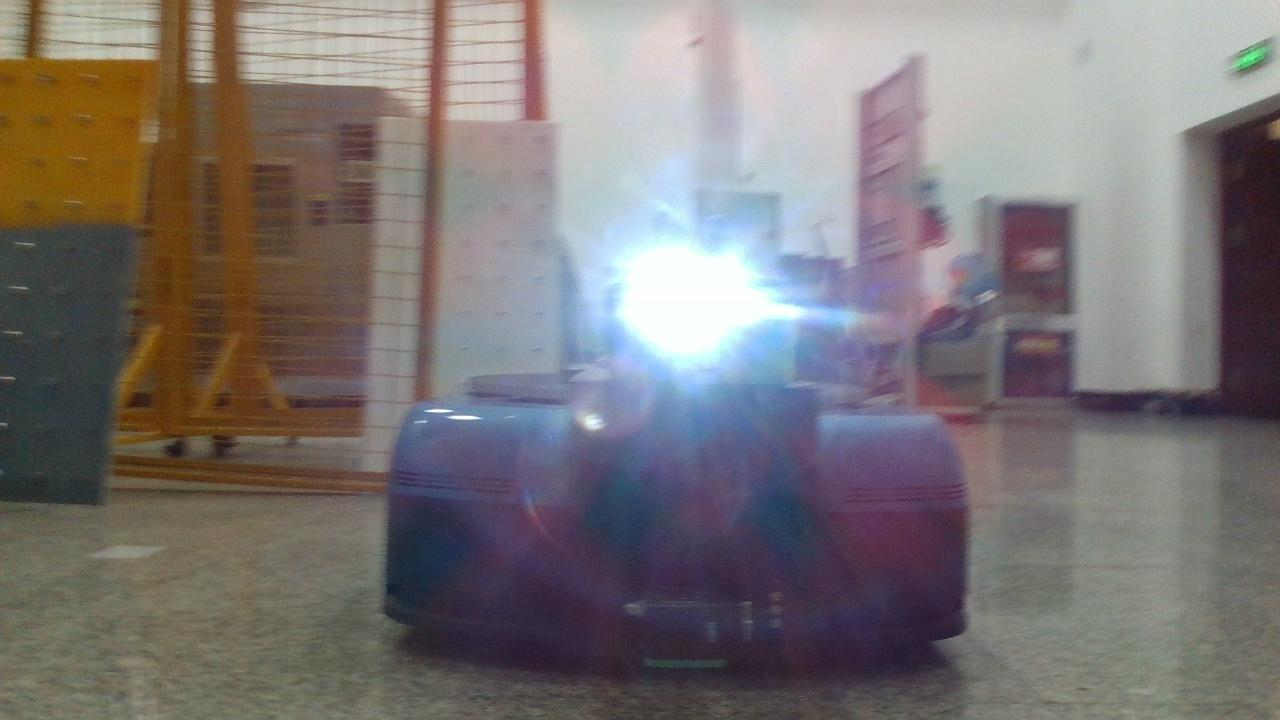AGV: (385, 358, 968, 665)
